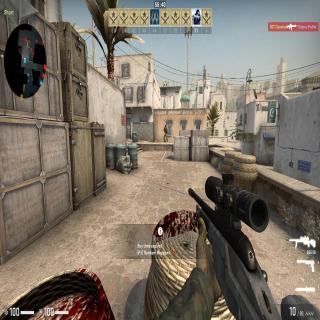T-Body: (164, 124, 168, 143)
T-Head: (164, 124, 167, 128)
